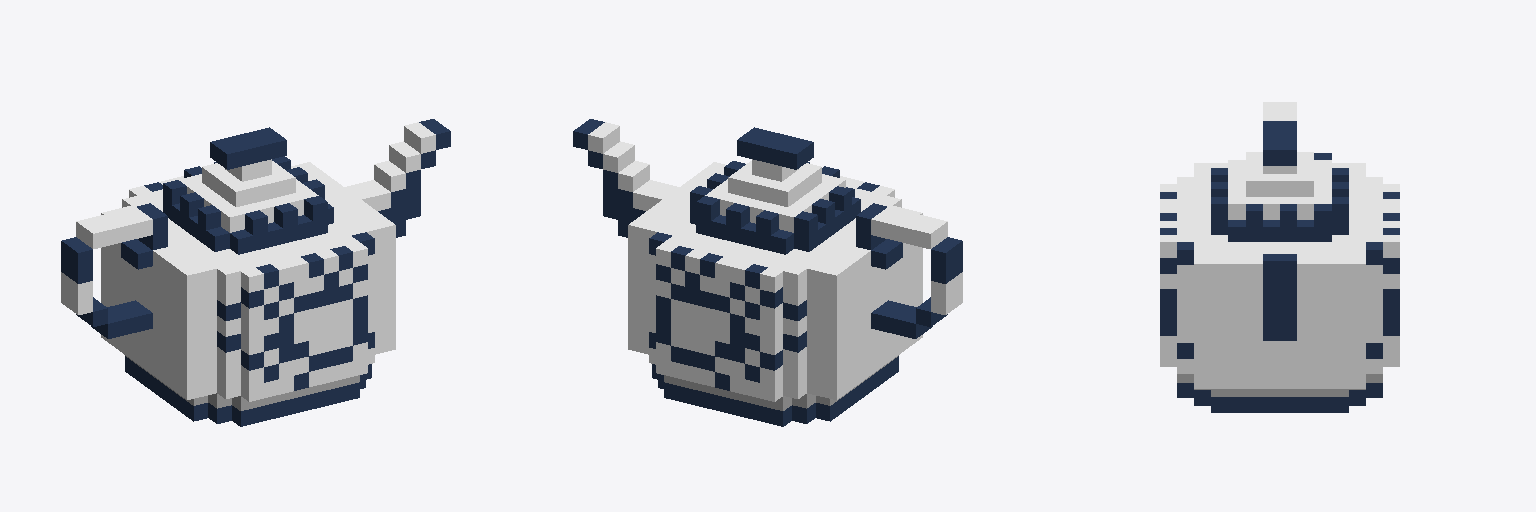
3 views of the same model, side by side, from view 1: azimuth 30°, elevation 25°; view 2: azimuth 150°, elevation 25°; view 3: azimuth 270°, elevation 25° (orthographic).
Parts seen in each view (by area): view 1: object 1; view 2: object 1; view 3: object 1.
Part boxes in pixels (bbox=[...]): object 1: bbox=[61, 119, 450, 426]; object 1: bbox=[573, 119, 962, 426]; object 1: bbox=[1160, 102, 1399, 412].
Bounding box in the file's own units: 2.5 × 1.5 × 1.4.
1 materials, 1 textured.